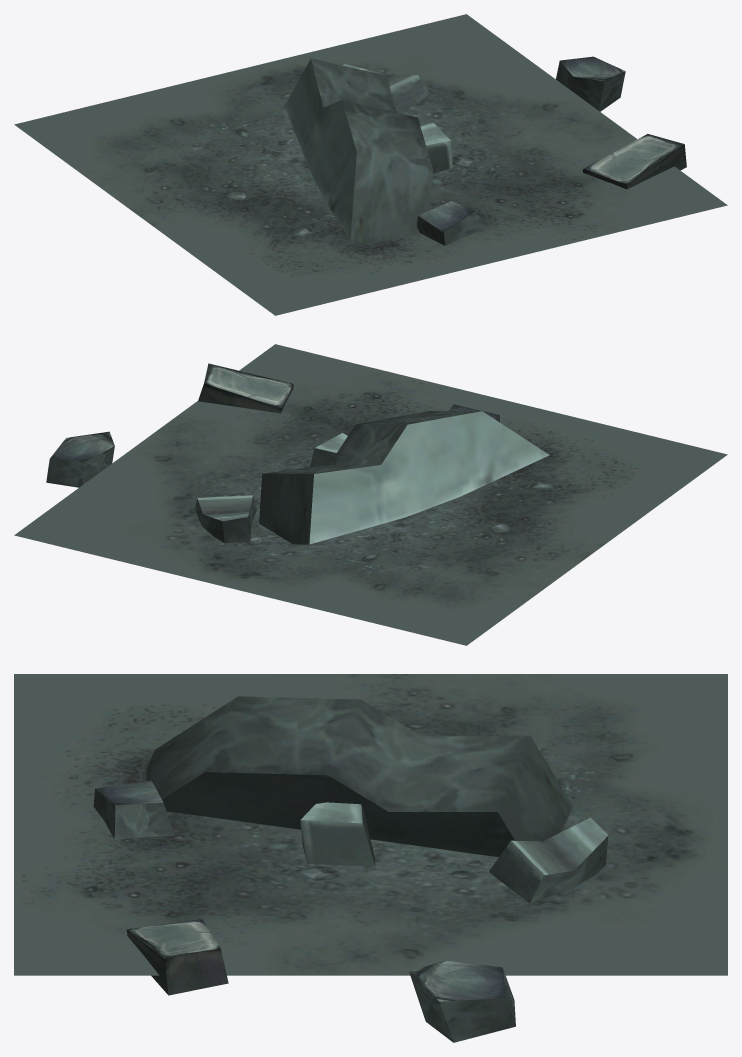
File: crypt_rubble_02.fbx
3 views of the same model, one above another, from view 1: azimuth 30°, elevation 25°; view 2: azimuth 150°, elevation 25°; view 3: azimuth 270°, elevation 25° (orthographic). The views are drawn at different scales.
Visible parts, largest first — view 1: crypt_rubble_02-0; view 2: crypt_rubble_02-0; view 3: crypt_rubble_02-0.
Part boxes in pixels (bbox=[...]): crypt_rubble_02-0: bbox=[14, 14, 727, 315]; crypt_rubble_02-0: bbox=[14, 344, 727, 645]; crypt_rubble_02-0: bbox=[14, 674, 727, 1042].
Size of the model in its own units: 4.47 by 1.04 by 4.
